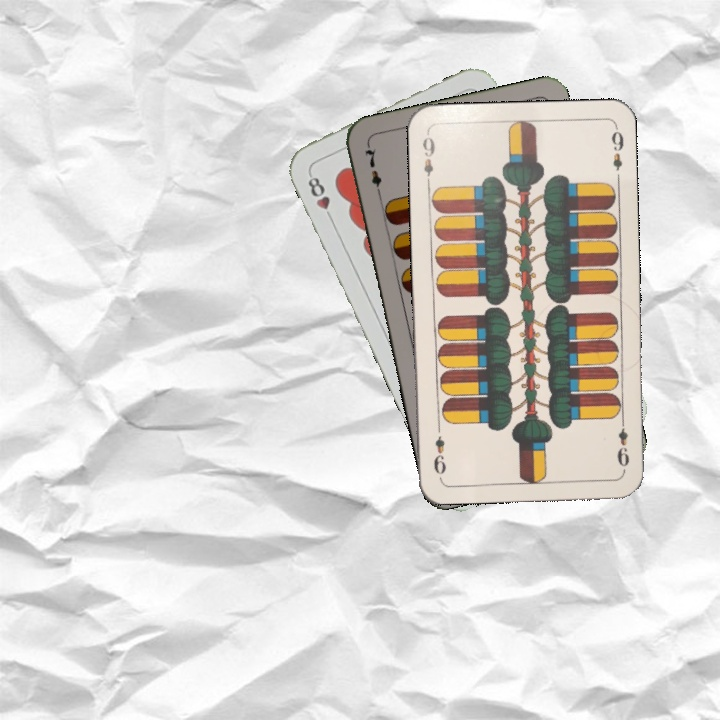E7: (360, 141, 384, 200)
E9: (419, 129, 438, 188), (613, 414, 632, 469)
H8: (303, 169, 337, 225)
